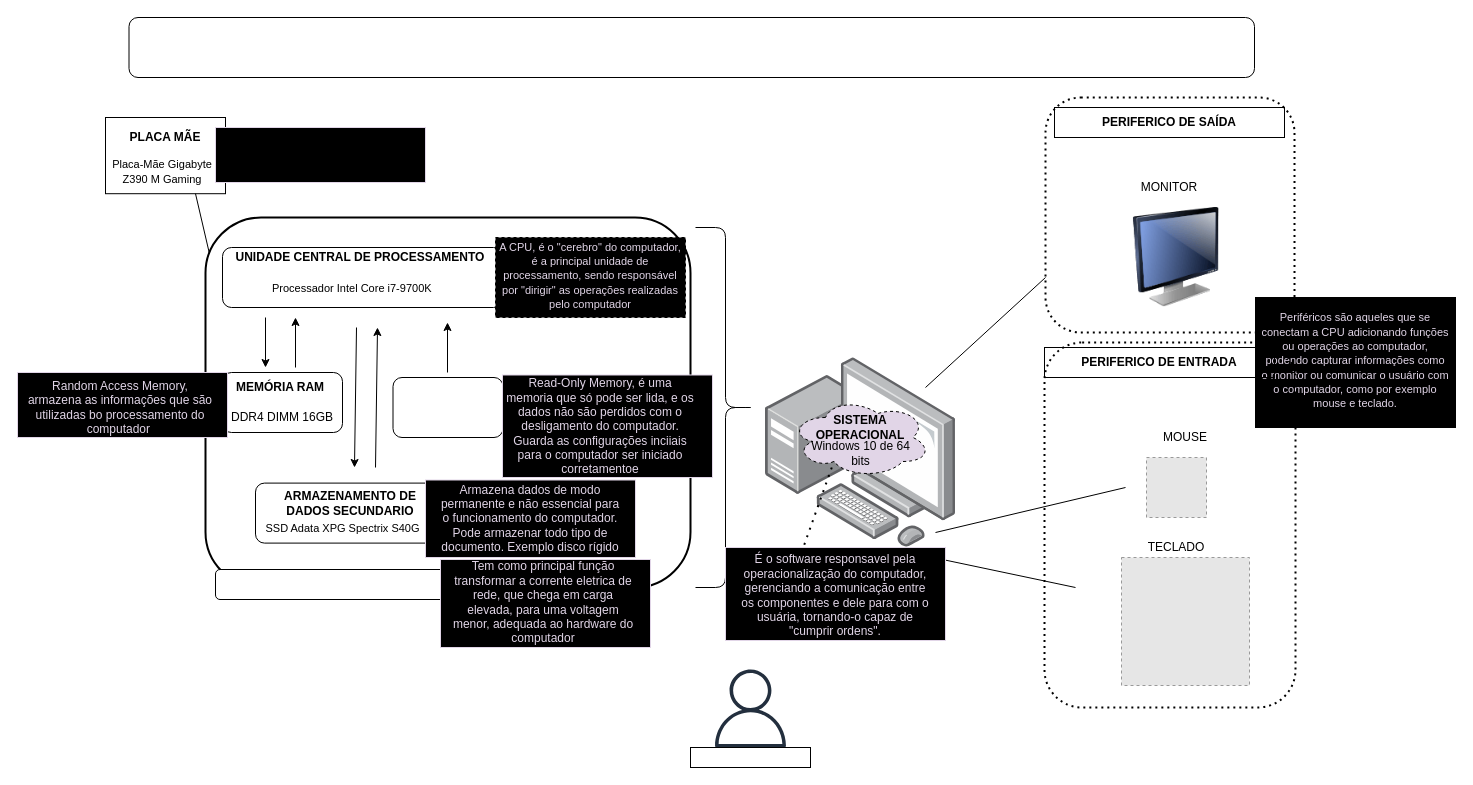
Image size: 1473x785. Some labels were removed from this diagram. Grey dashed boxes stand in for pictures. Here are the shapes that lost their labels. From the top down, the centre of each, then its label:
the point at 691,47: ARQUITETURA DO COMPUTADOR
the point at 320,154: Principal placa do computador, onde todos os demais dispositivos se conectam.
the point at 447,407: MEMÓRIA ROM
the point at 345,584: FONTE DE ALIMENTAÇÃO
the point at 750,757: USUÁRIO
